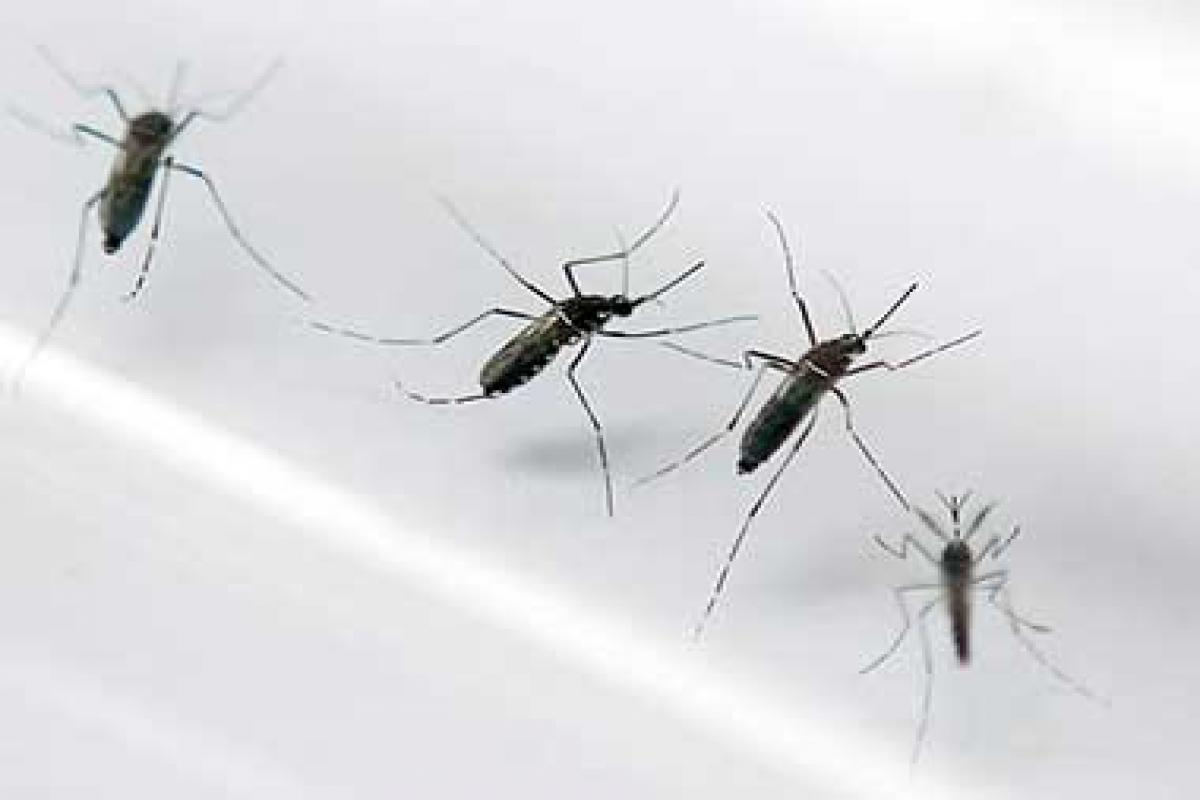dengue_mosquito: (377, 196, 911, 511)
